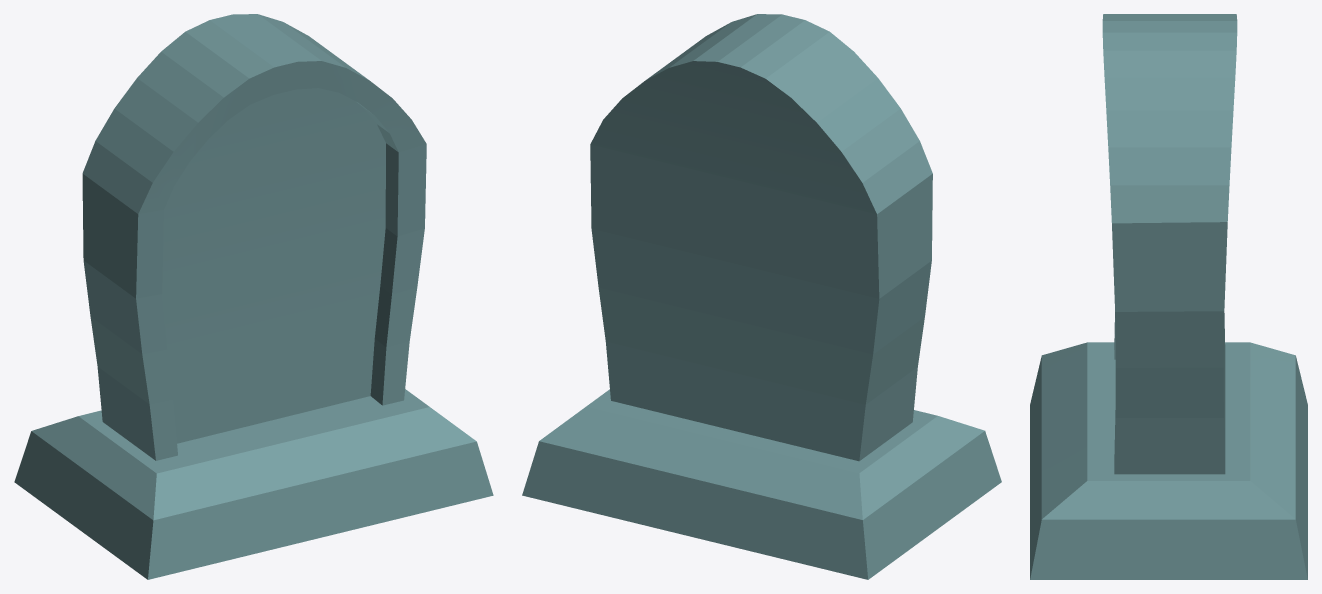
Rendered from Cementery_Tombstone7.fbx.
The picture shows the model from 3 angles, left to right: view 1: azimuth 30°, elevation 25°; view 2: azimuth 150°, elevation 25°; view 3: azimuth 270°, elevation 25°; orthographic projection. The views are drawn at different scales.
Parts seen in each view (by area): view 1: GraveStone_008; view 2: GraveStone_008; view 3: GraveStone_008.
Boxes of the visible parts, bbox=[...] form: GraveStone_008: bbox=[14, 14, 493, 579]; GraveStone_008: bbox=[522, 14, 1001, 579]; GraveStone_008: bbox=[1030, 14, 1307, 579].
Bounding box in the file's own units: 39.34 × 48.67 × 26.32.
